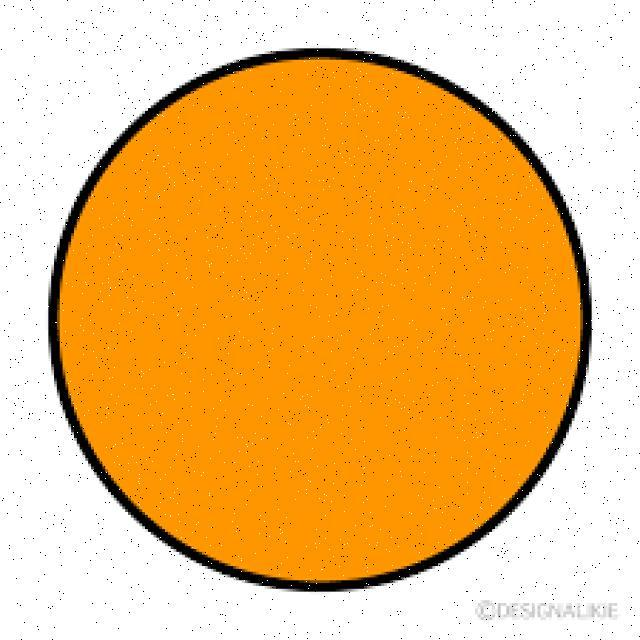Circle: (46, 48, 592, 592)
